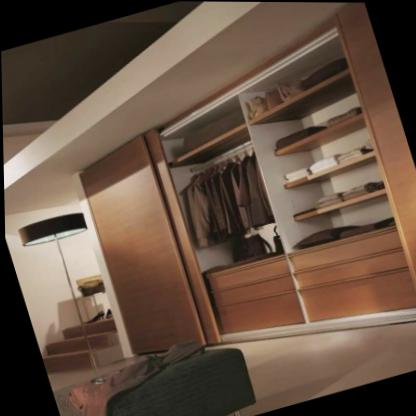Transparent Closet: (78, 2, 416, 356)
